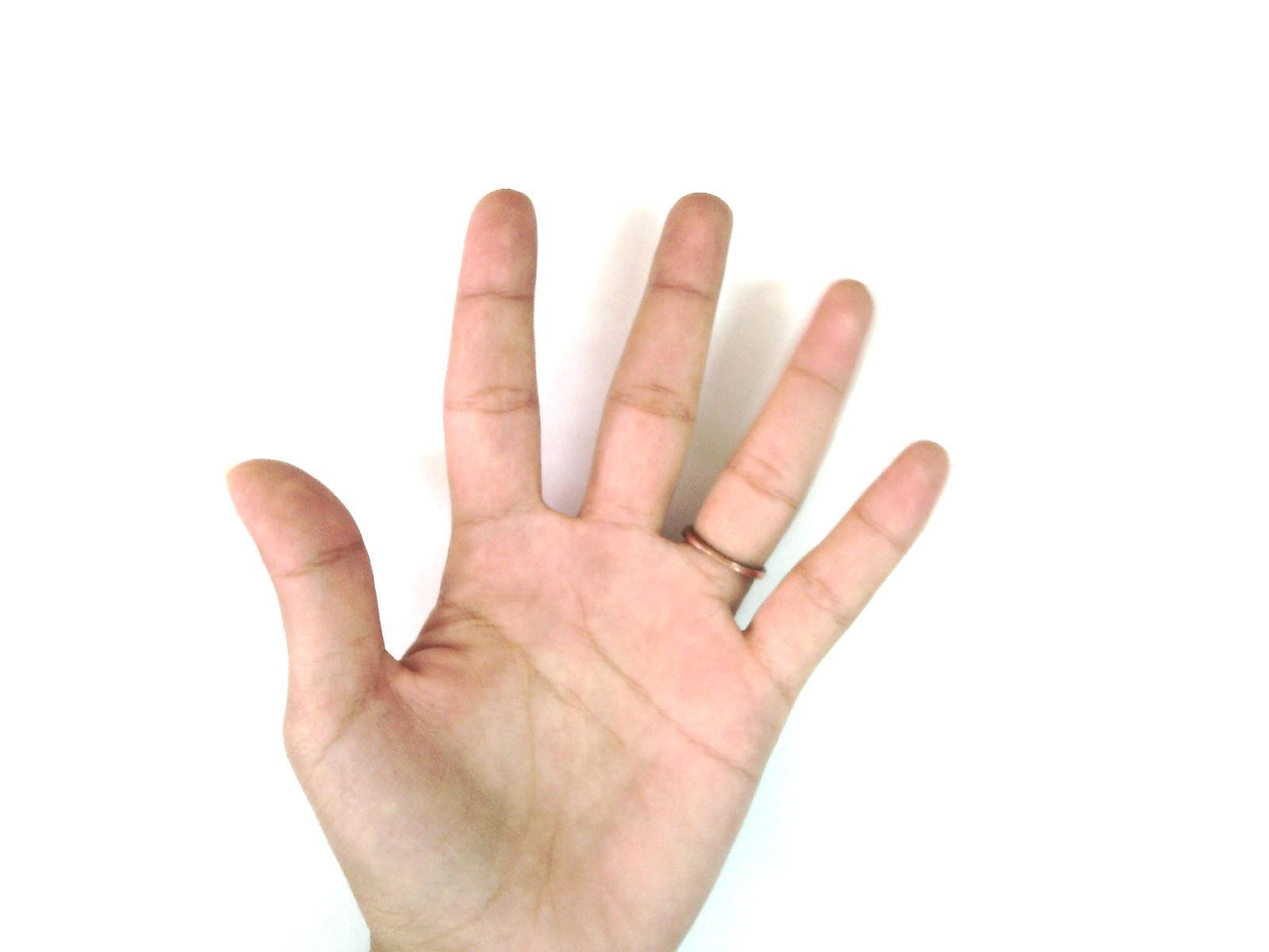open_palm: (224, 186, 953, 951)
